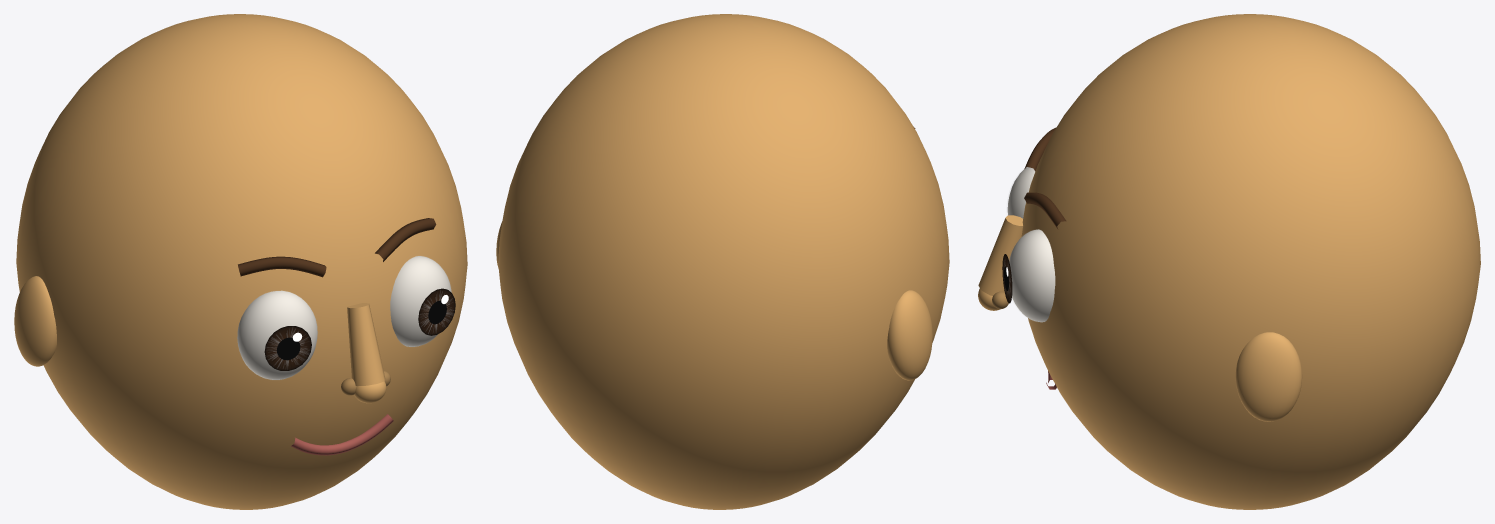
The model's file is 01-sourire.glb.
The picture shows the model from 3 angles, left to right: view 1: azimuth 30°, elevation 25°; view 2: azimuth 150°, elevation 25°; view 3: azimuth 270°, elevation 25°; orthographic projection.
Size of the model in its own units: 0.3087 by 0.321 by 0.3166.
Materials: 9 (1 with a texture image).
